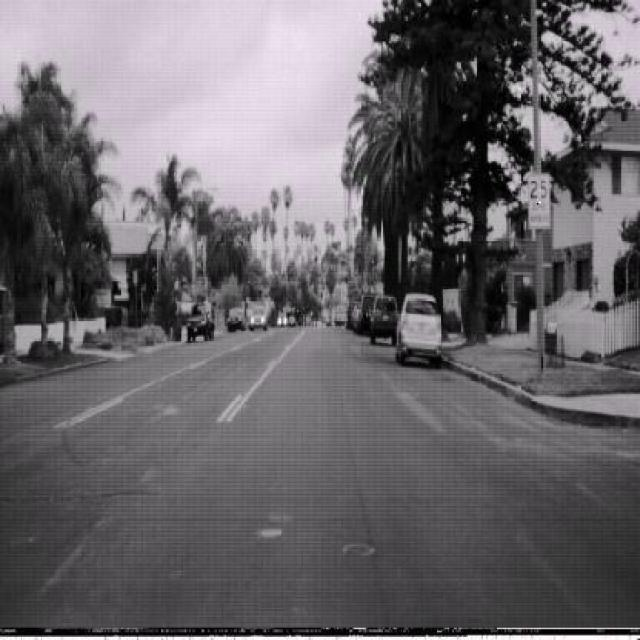zoneAhead25: (528, 172, 552, 229)
